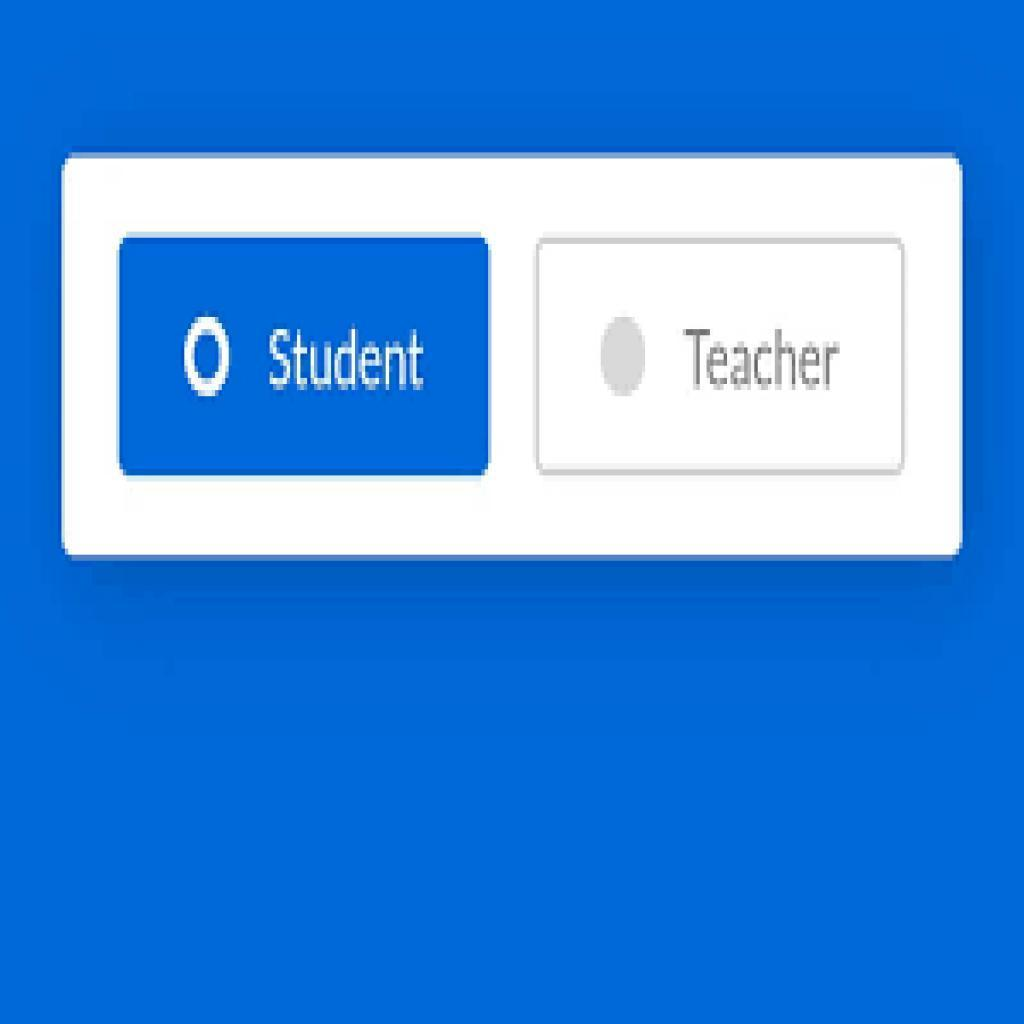radio: (181, 311, 239, 401), (596, 312, 650, 404)
